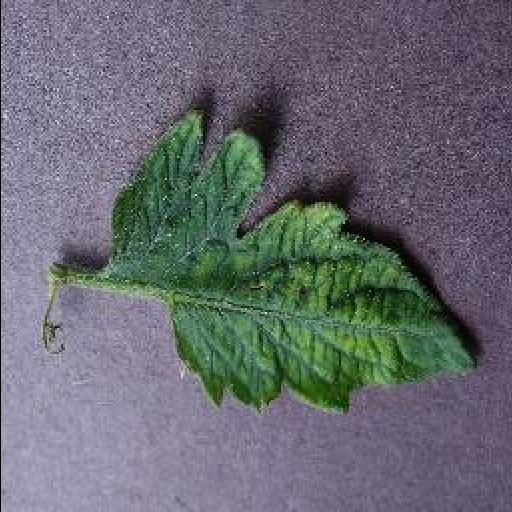Mosaic Virus: (113, 104, 477, 414)
